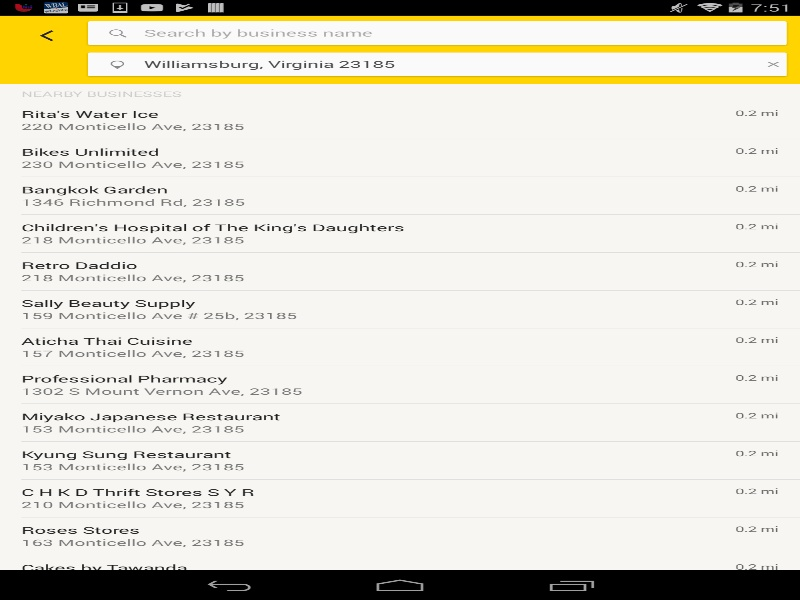Button: (10, 15, 85, 55)
Input: (85, 50, 789, 78), (85, 19, 789, 46)
